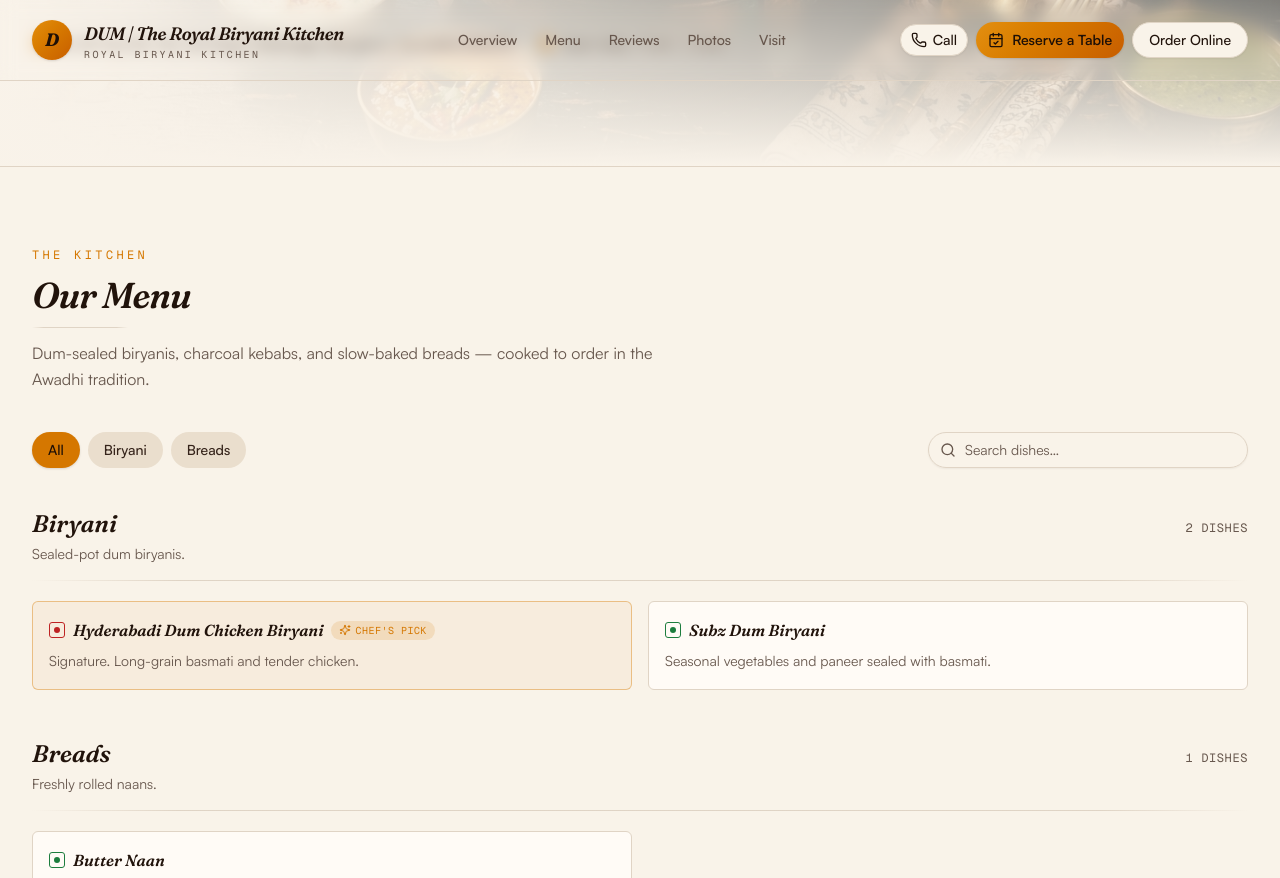
Test: Menu › filters items when a category tab is selected
(page scrolled)
Click the tab "Breads": (209, 450) x1=171 y1=432 x2=246 y2=468
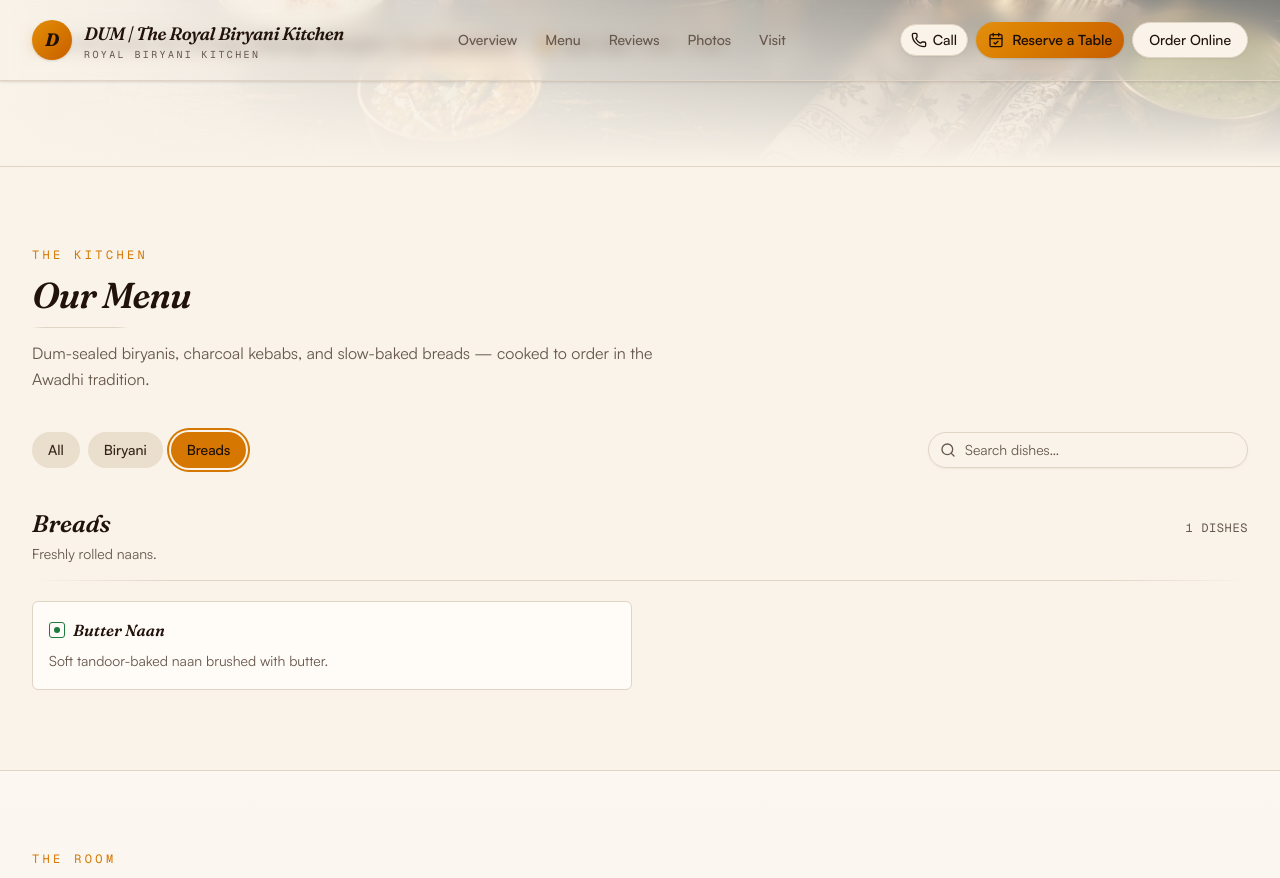
Check: the heading "Butter Naan" is shown, box x1=73 y1=618 x2=165 y2=642
Check: the heading "Hyderabadi Dum Chicken Biryani" is gone
